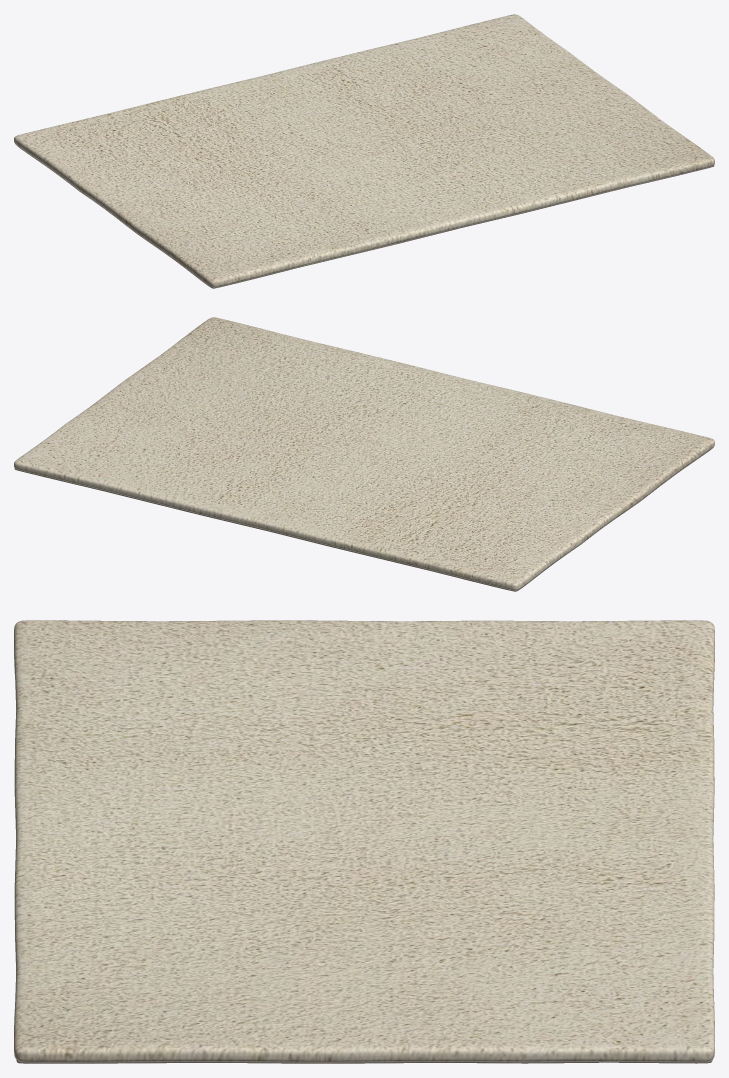
File: B07TVD4QNC.glb
The picture shows the model from 3 angles, top to bottom: view 1: azimuth 30°, elevation 25°; view 2: azimuth 150°, elevation 25°; view 3: azimuth 270°, elevation 25°; orthographic projection. The views are drawn at different scales.
Parts seen in each view (by area): view 1: RootNode; view 2: RootNode; view 3: RootNode.
Part boxes in pixels (bbox=[...]): RootNode: bbox=[14, 14, 714, 288]; RootNode: bbox=[14, 317, 714, 591]; RootNode: bbox=[14, 620, 714, 1063].
Size of the model in its own units: 1.78 by 0.03 by 1.22.
1 material, 1 textured.
